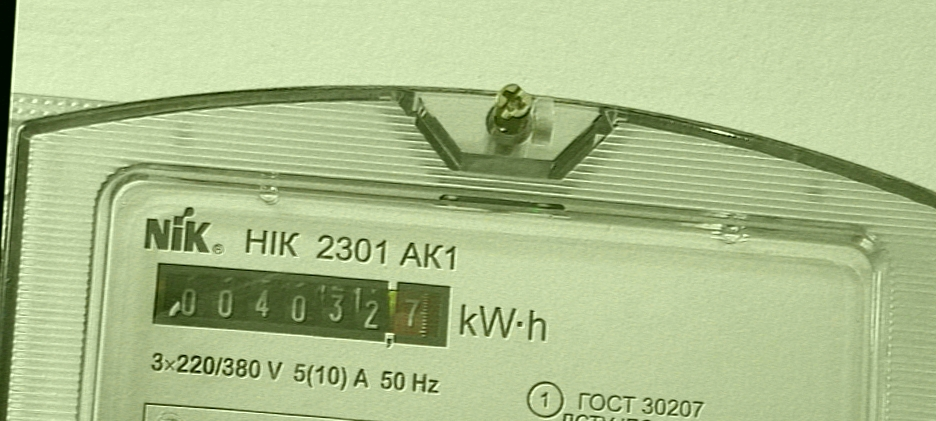0: (215, 288, 237, 322), (179, 285, 200, 319), (289, 292, 310, 326)
2: (363, 298, 383, 333)
3: (327, 293, 347, 326)
4: (252, 287, 274, 324)
7: (404, 297, 423, 331)
screen: (143, 255, 461, 362)
